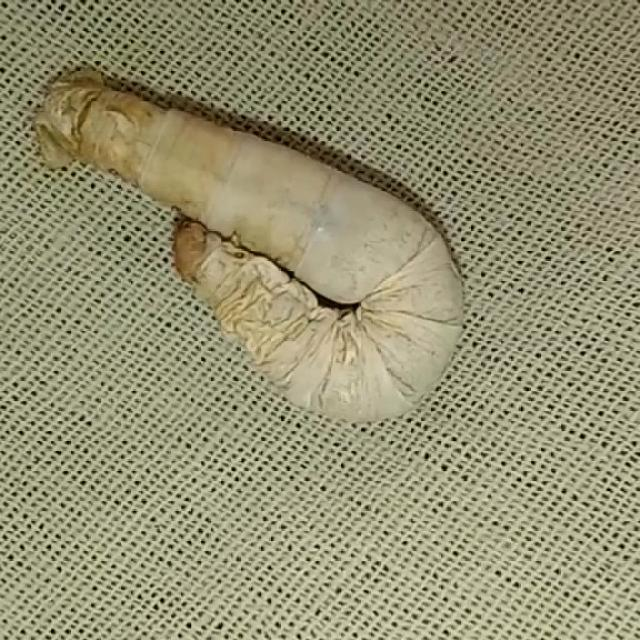Grasserie: (25, 46, 475, 439)
